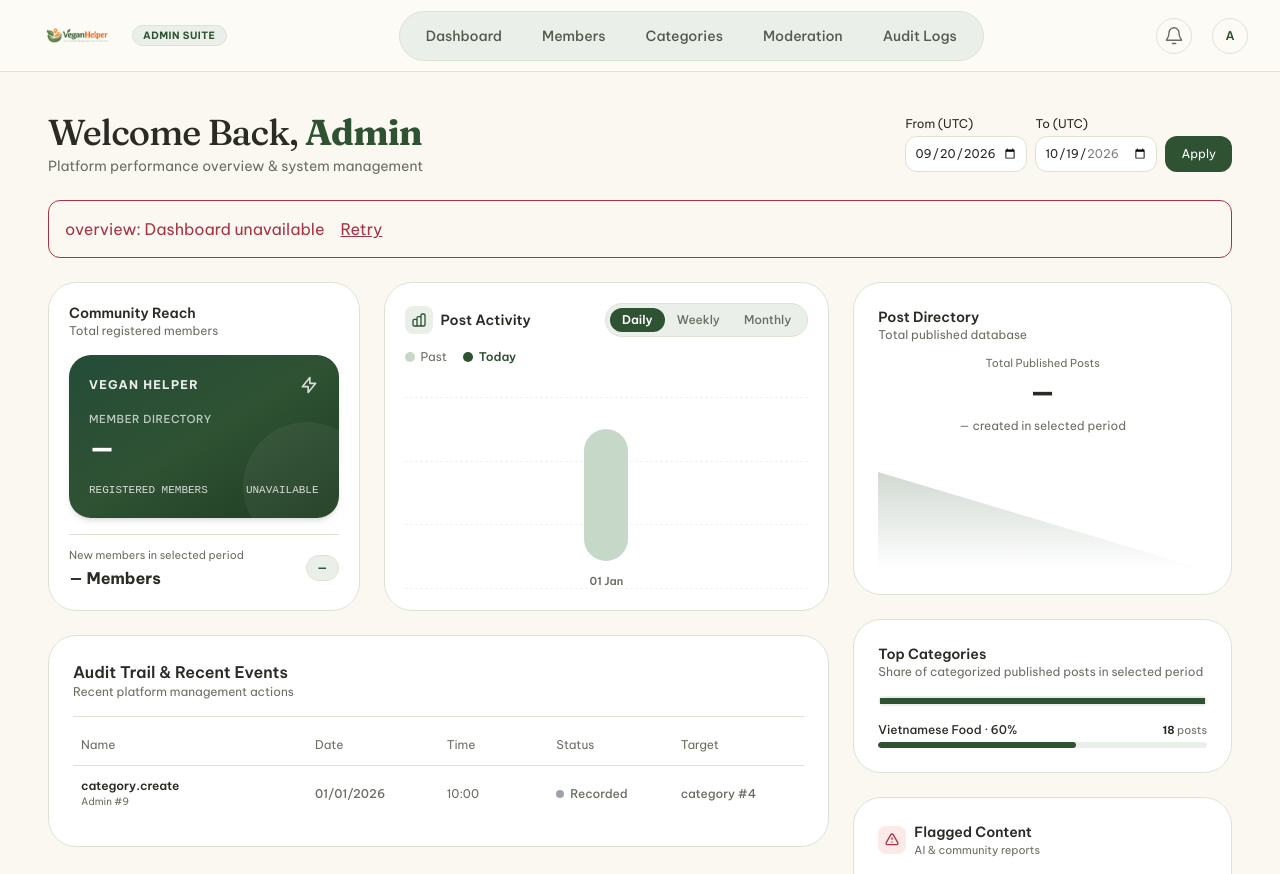
Test: shows API failure with retry rather than invented data
Expected: the message "overview: Dashboard unavailable Retry" is shown, [48, 200, 1232, 258]
Expected: the text "1,250" is not shown
Click the button "Retry".
click(361, 229)  # box [340, 217, 382, 241]
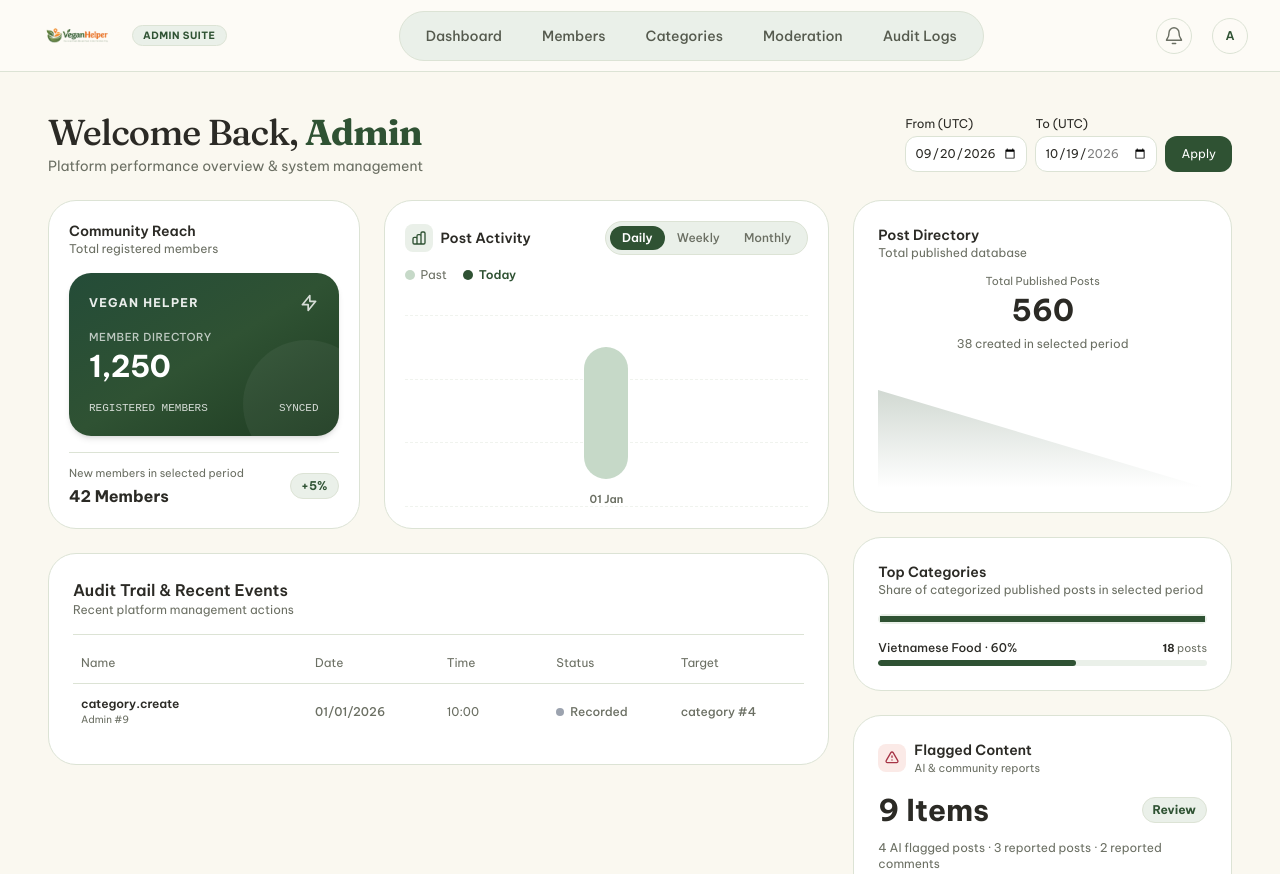
Expected: the message "overview: Dashboard unavailable Retry" is gone
Expected: the text "1,250" is shown, [89, 346, 170, 384]
